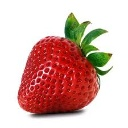strawberry: (15, 22, 100, 115)
